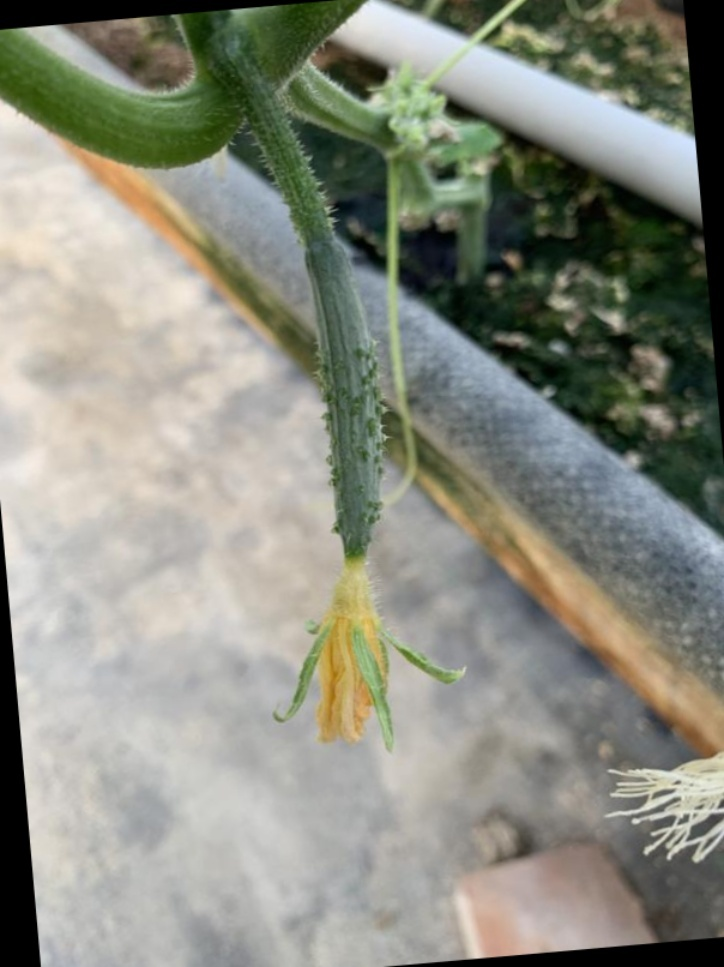bear: (244, 213, 463, 763)
